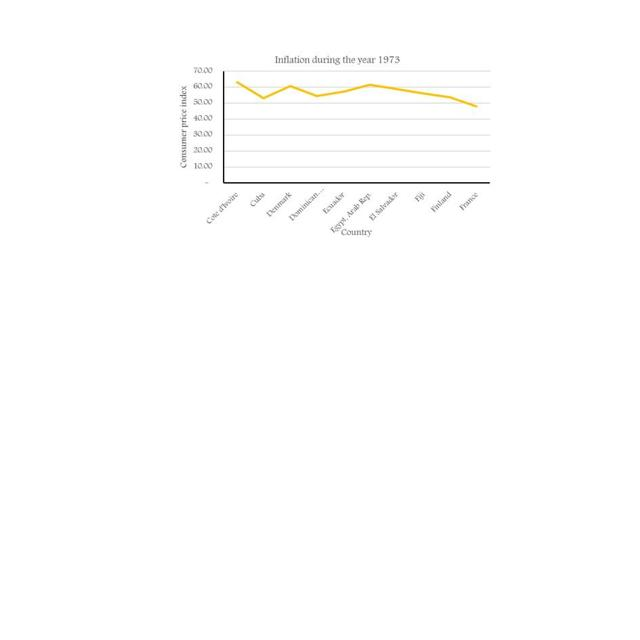Graph: (179, 51, 495, 239)
